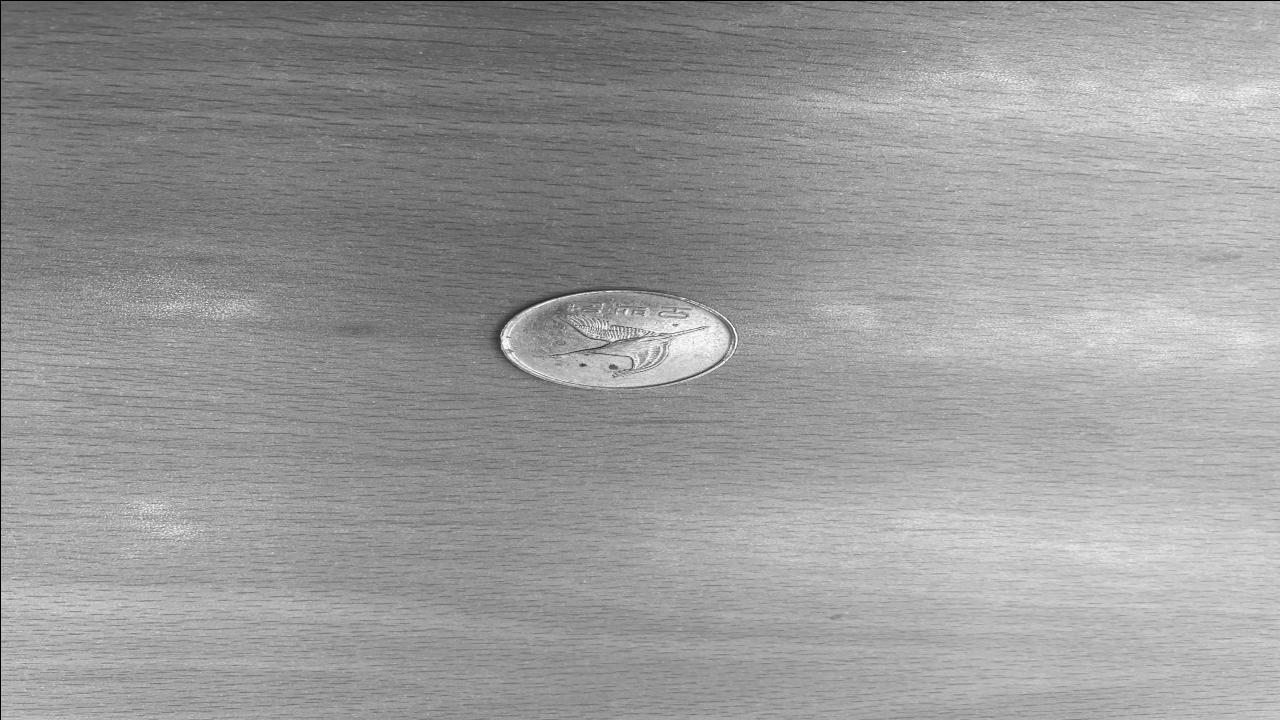coin: (496, 289, 740, 389)
